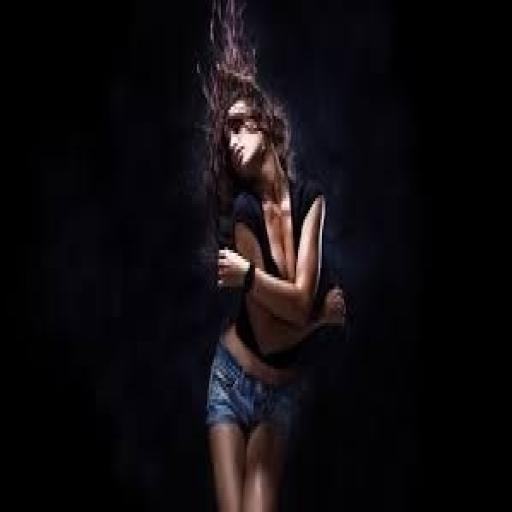dancing: (196, 3, 350, 509)
